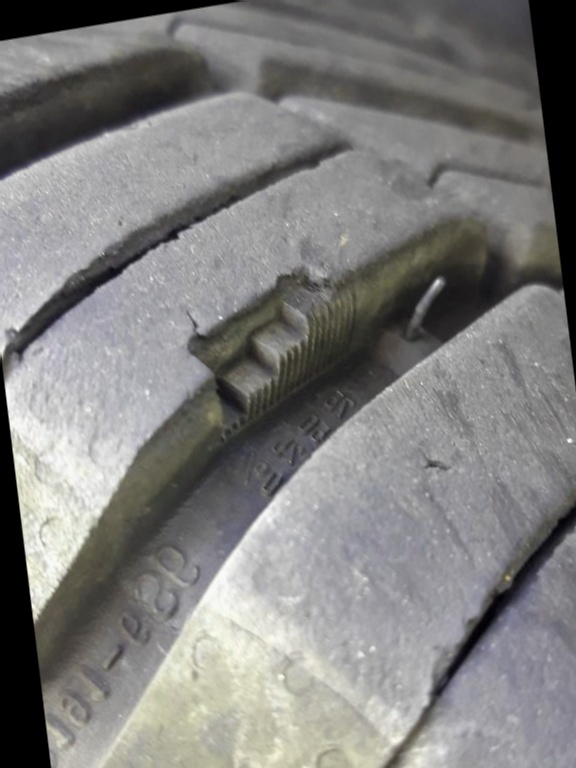temoin:90: (172, 242, 379, 456)
